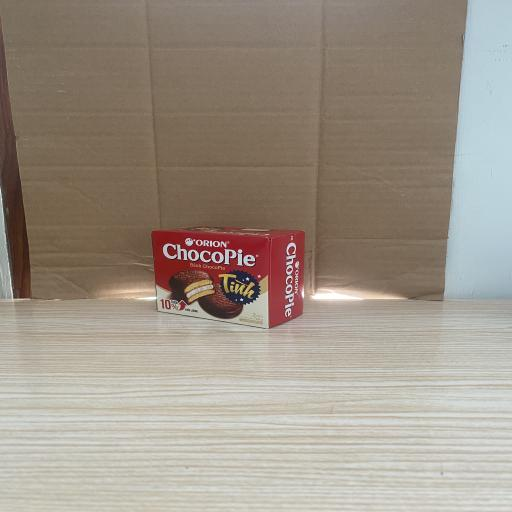chocopie: (152, 226, 306, 329)
